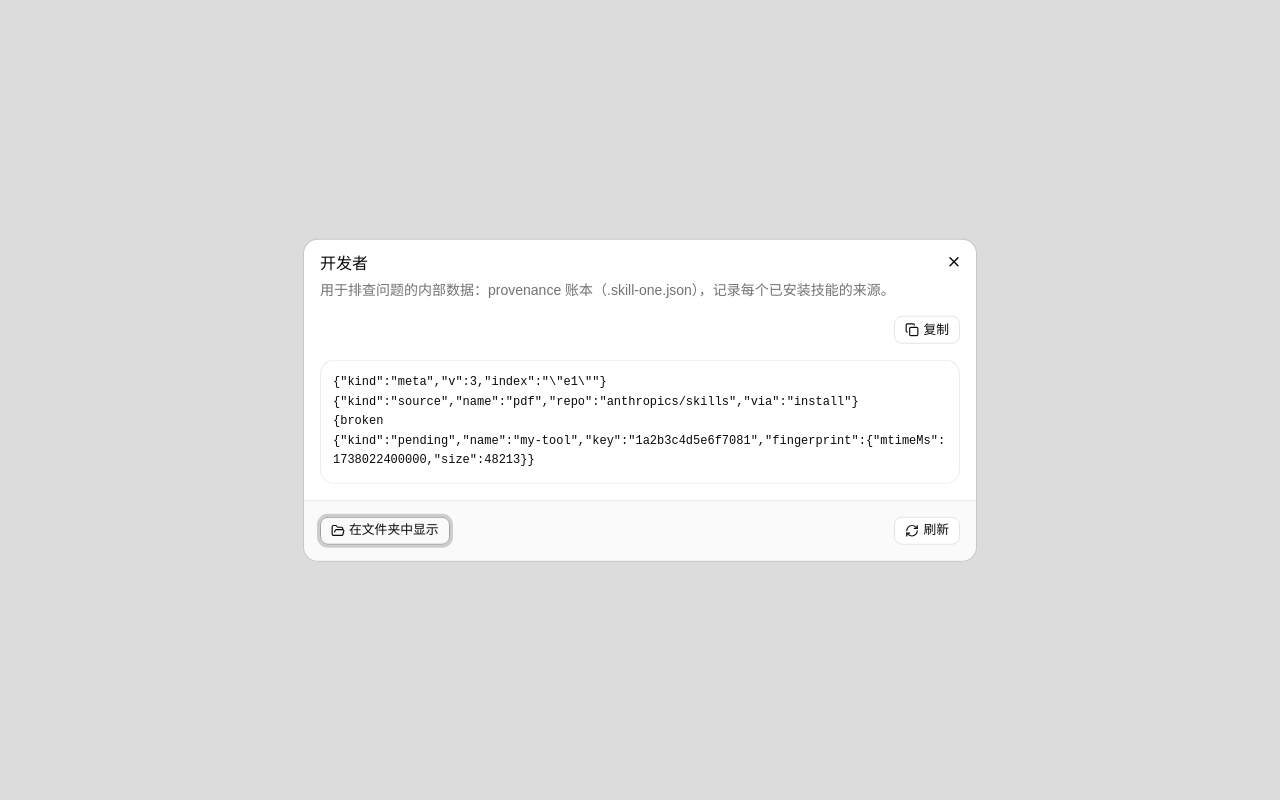
Scenario: DeveloperDialog › copies raw content to clipboard when copy button is clicked
Click the button "复制": click(927, 330) top-left (894, 316), bottom-right (960, 344)
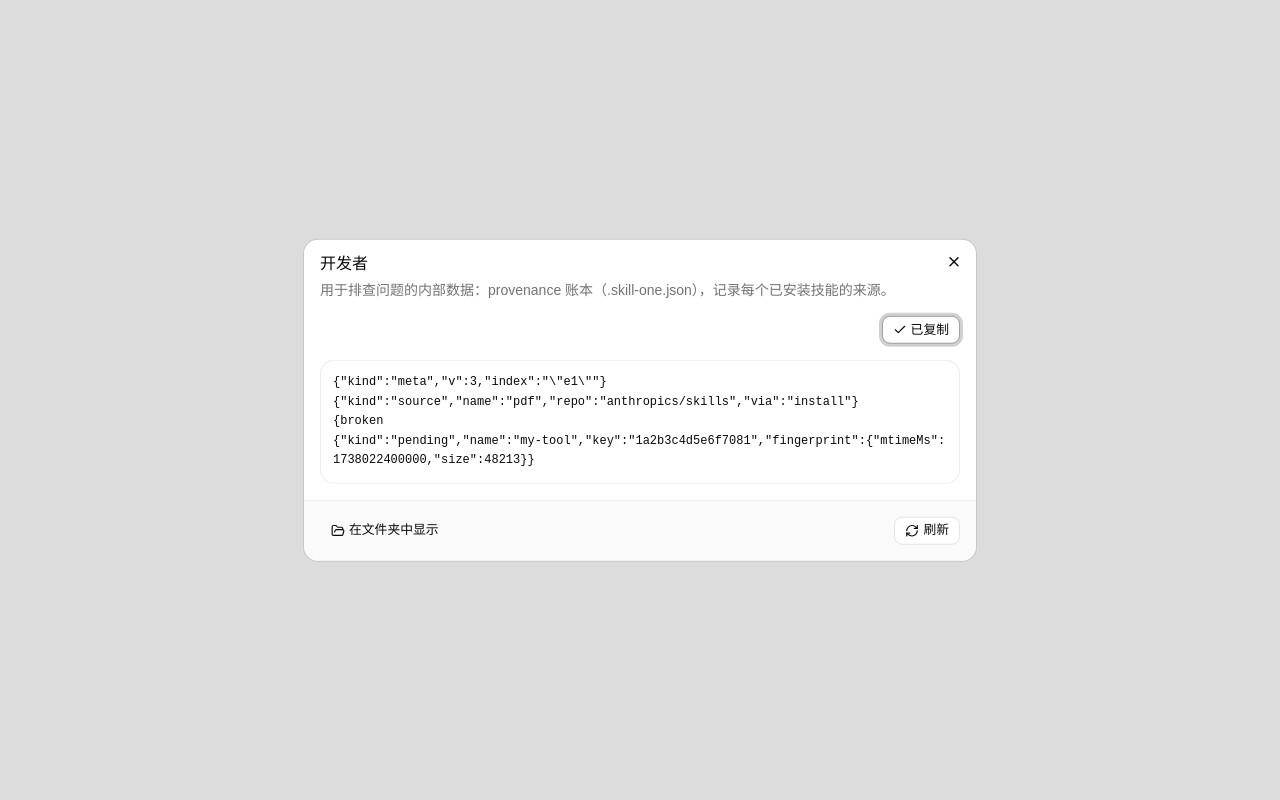
Expected: the button "已复制" is shown, top-left (882, 316), bottom-right (960, 344)
